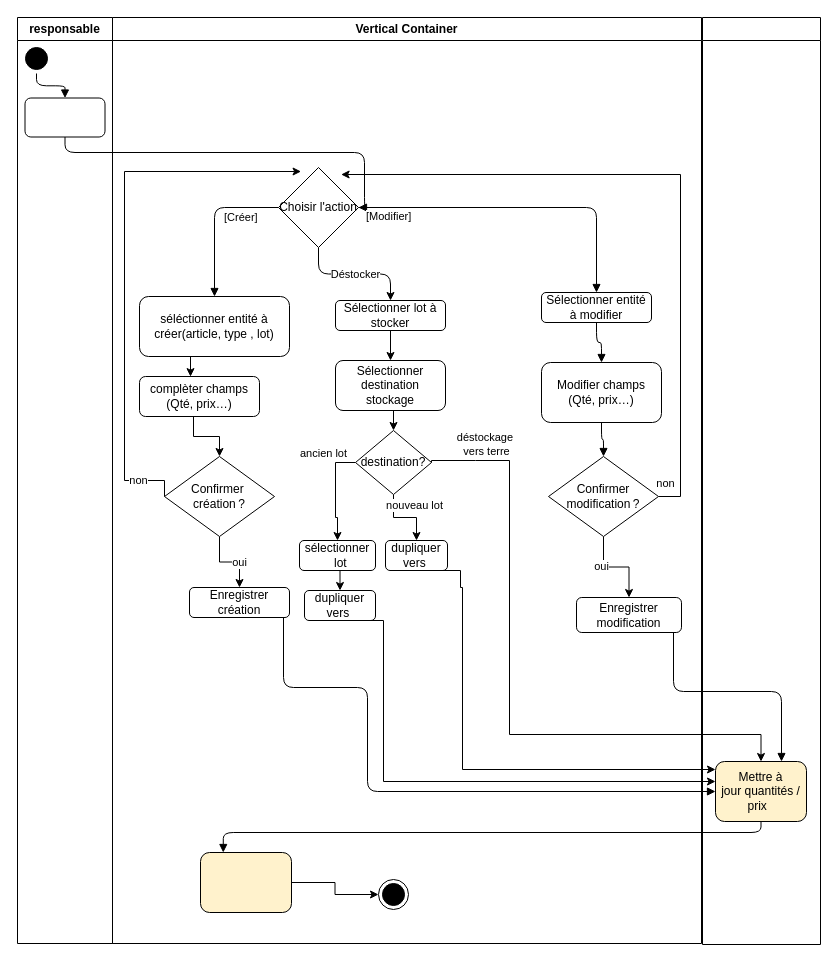
This 838x962 diagram has some shape labels left out. The shapes that lost their labels are listed below. From the top down, each one's centre as x and y in pixels, then its label:
At (x=64, y=117): "ouvrir le module stock".
At (x=761, y=480): "sql lite".
At (x=246, y=882): "message de confirmation".
